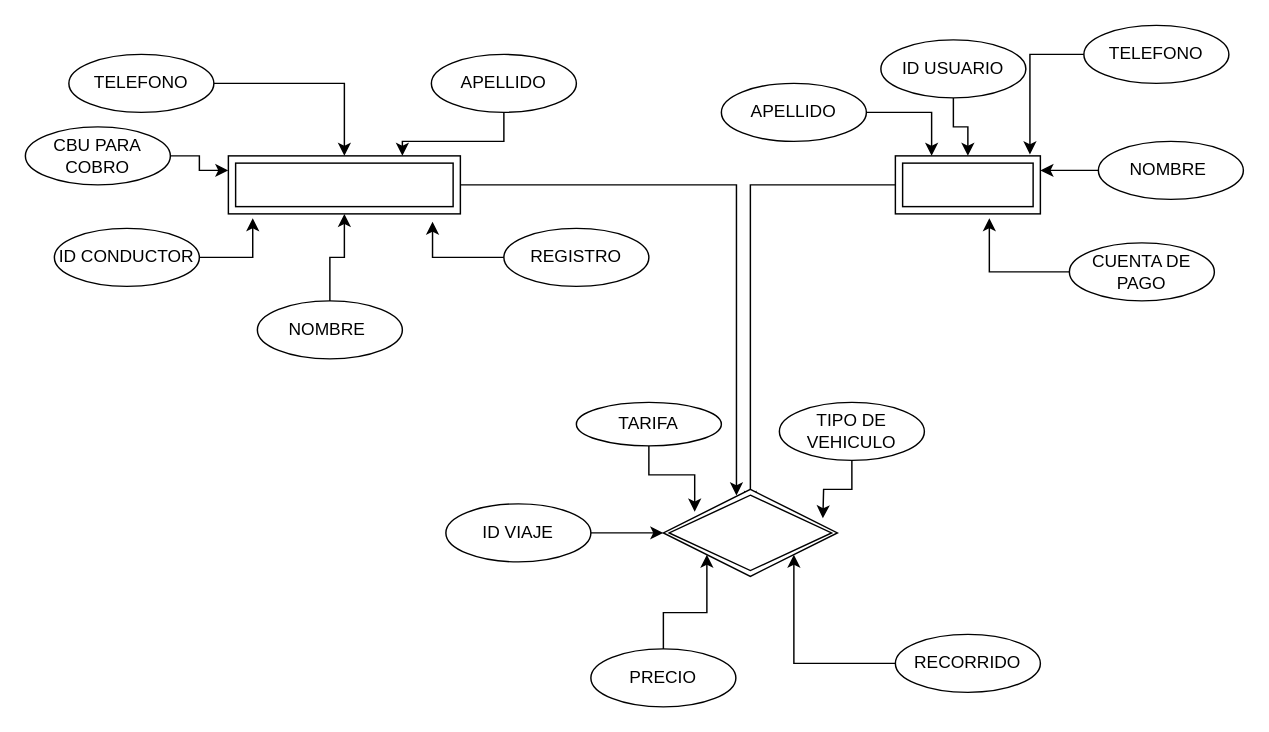
Image size: 1269x732. Some labels were removed from this diagram. The centre of each missing label's shape, as x and y in pixels:
"CONDUCTORES" goes at (x=343, y=184).
"USUARIOS" goes at (x=967, y=184).
"VIAJE" goes at (x=749, y=532).
